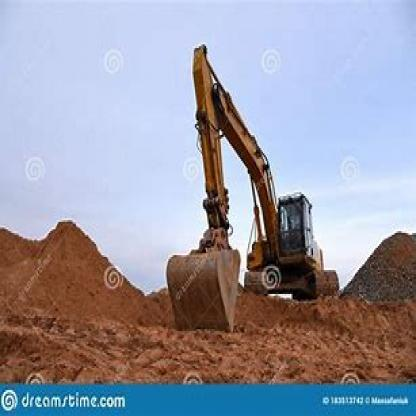excavator: (159, 28, 344, 342)
